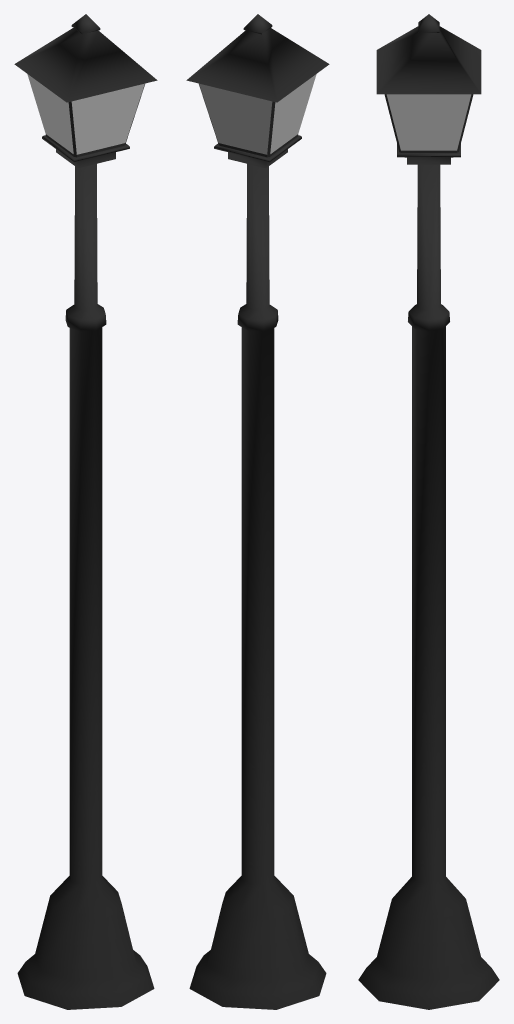
Rendered from LampuTaman.fbx.
3 renders of one model, left to right at view 1: azimuth 30°, elevation 25°; view 2: azimuth 150°, elevation 25°; view 3: azimuth 270°, elevation 25°, orthographic.
Visible parts, largest first — view 1: LampuTaman_LOD0; view 2: LampuTaman_LOD0; view 3: LampuTaman_LOD0.
Part boxes in pixels (x1,y1,x2,y2): LampuTaman_LOD0: (14, 14, 157, 1009); LampuTaman_LOD0: (186, 14, 329, 1009); LampuTaman_LOD0: (358, 14, 499, 1009).
Size of what is drawn, in the model's own units: 41.02 by 308 by 41.02.
